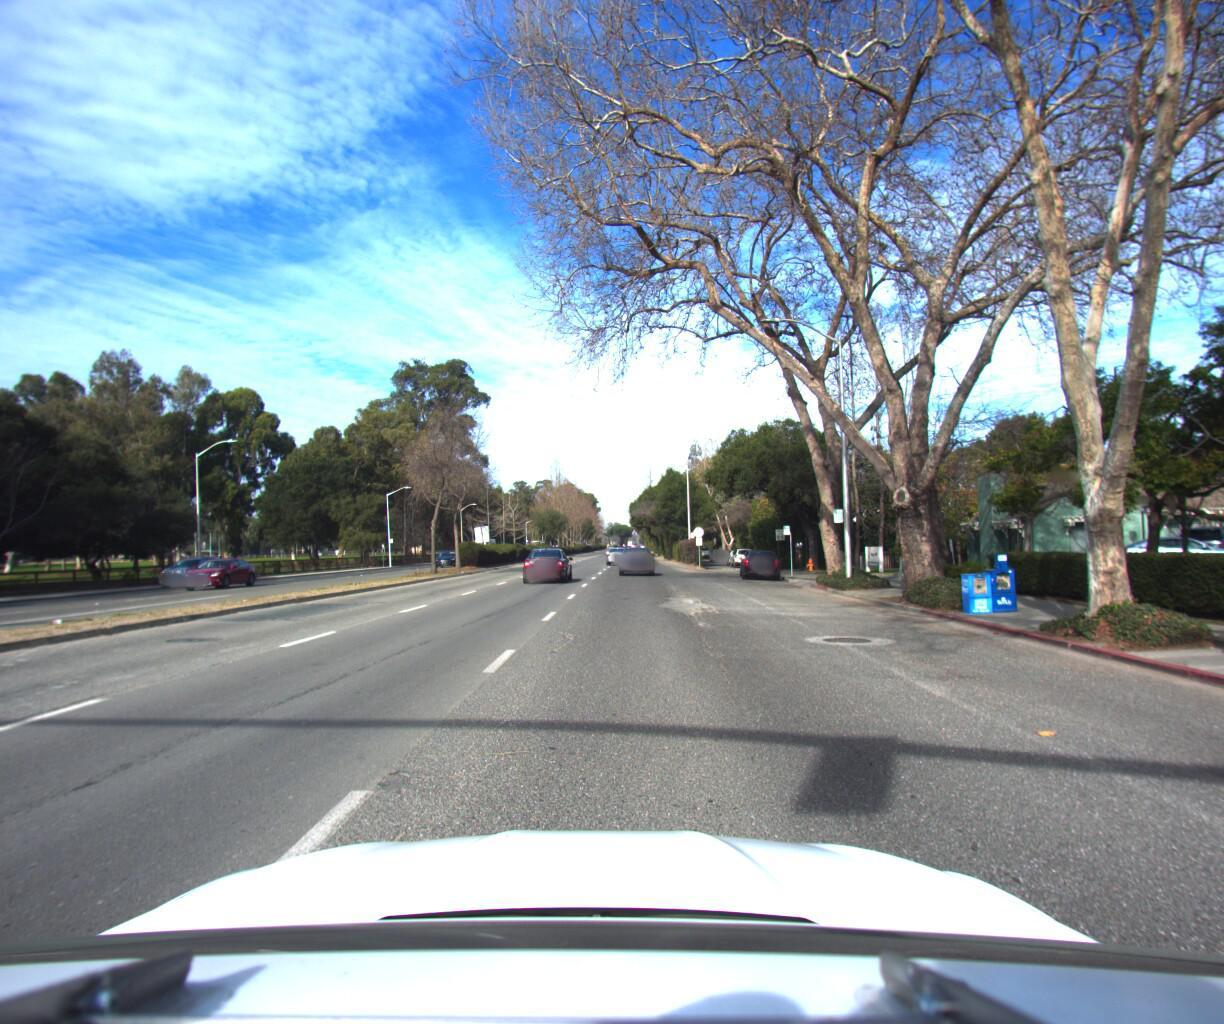car: (1091, 520, 1224, 566), (175, 546, 262, 583), (1164, 514, 1224, 564), (151, 545, 230, 580), (521, 538, 574, 577), (743, 540, 784, 574), (616, 536, 652, 567), (728, 538, 758, 559), (430, 540, 462, 559), (600, 539, 625, 557)
